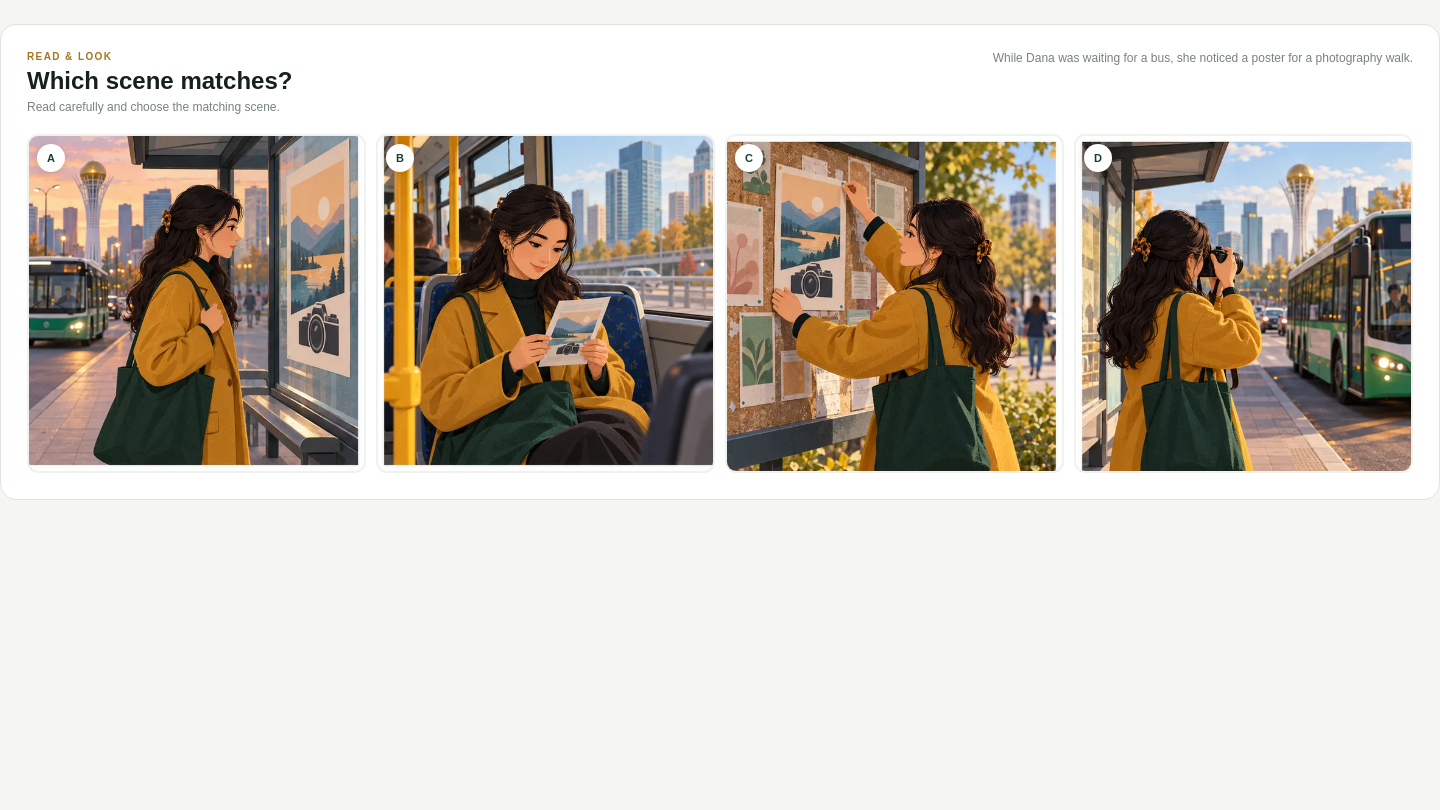
Scenario: immersive activities › gives feedback for the localized visual listening choice
Click the button named "Dana reads a poster while waiting for a bus.": click(196, 304) top-left (27, 134), bottom-right (366, 473)
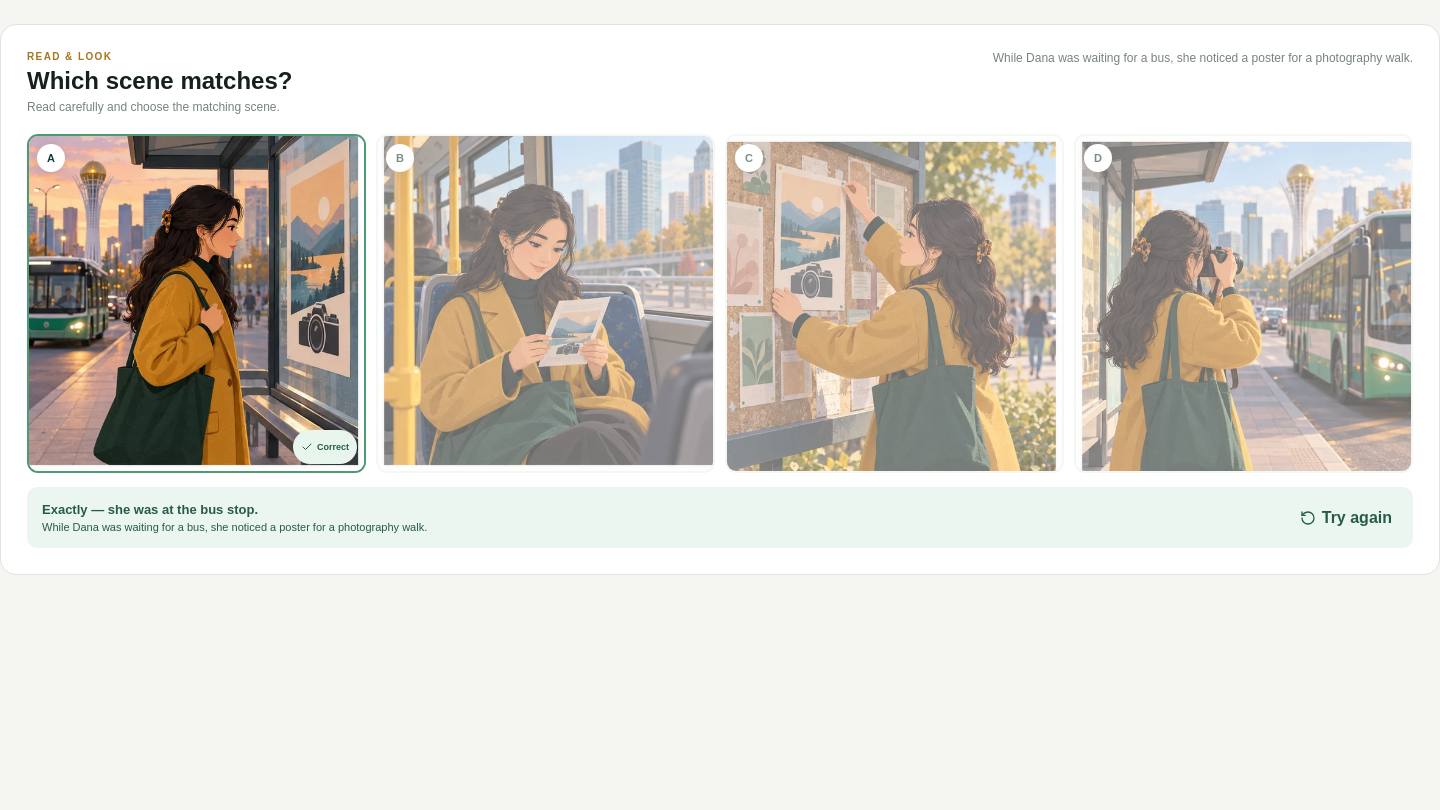
Now the text "Exactly — she was at the bus stop." is shown, box top-left (42, 502), bottom-right (258, 517)
